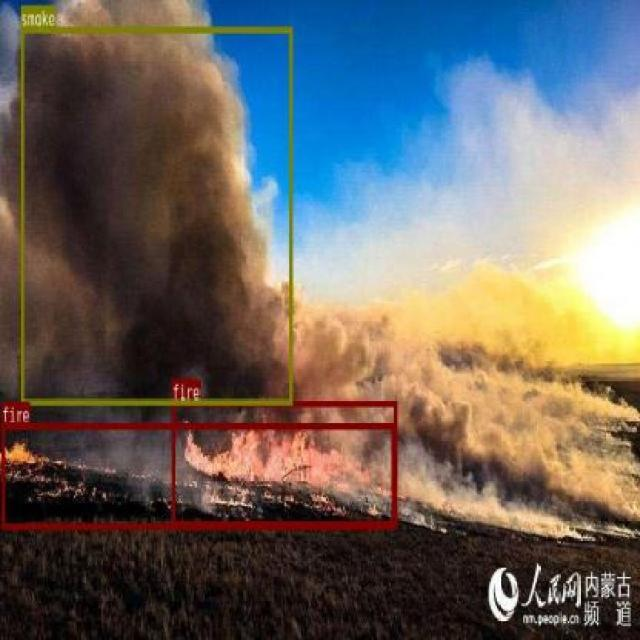Fire: (1, 422, 394, 528), (171, 400, 397, 526)
Smoke: (19, 25, 292, 404)
